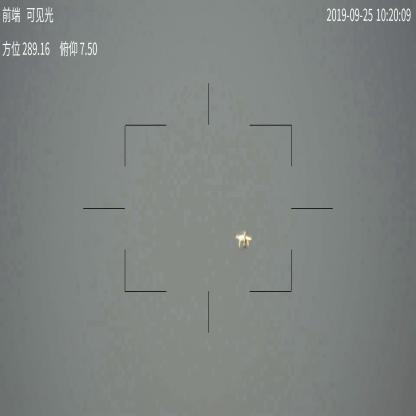uav: (235, 227, 252, 251)
